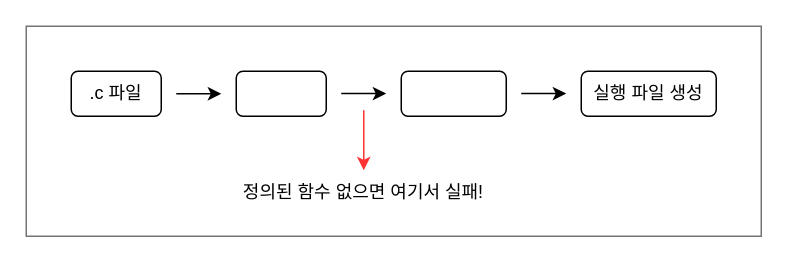
Some shapes in this 788 by 263 pixel diagram are drawn without their labels. The centre of each missing label's shape, as x and y in pixels:
.o 파일: point (280, 93)
링커가 연결: point (453, 93)
